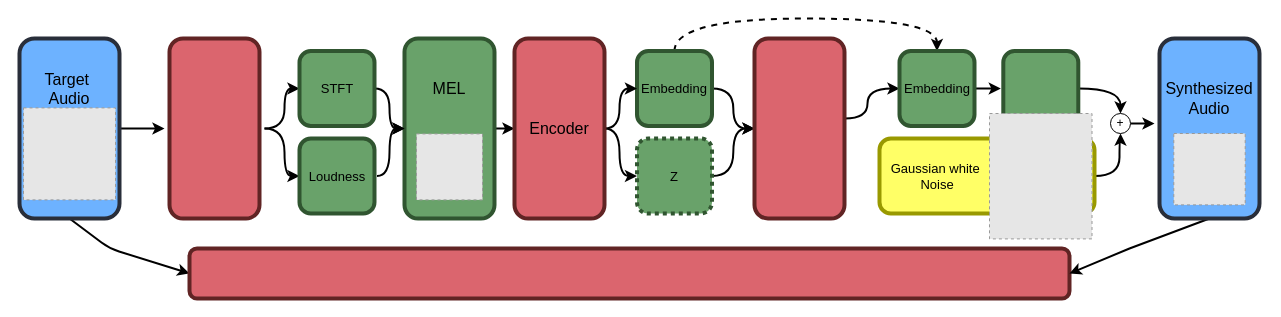
Image size: 1281x317. Some labels were removed from this diagram. Grey dashed boxes stand in for pictures. Here are the shapes that lost their labels. From the top down, the centre of each, then its label:
At point (1040, 88): "FIR Filter".
At point (214, 128): "Preprocess Script".
At point (799, 128): "Decoder".
At point (629, 273): "Multi-Scale Spectrogram Loss MSE".
